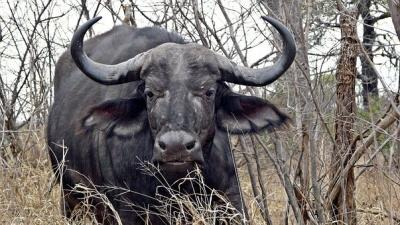buffalo: (47, 16, 295, 224)
